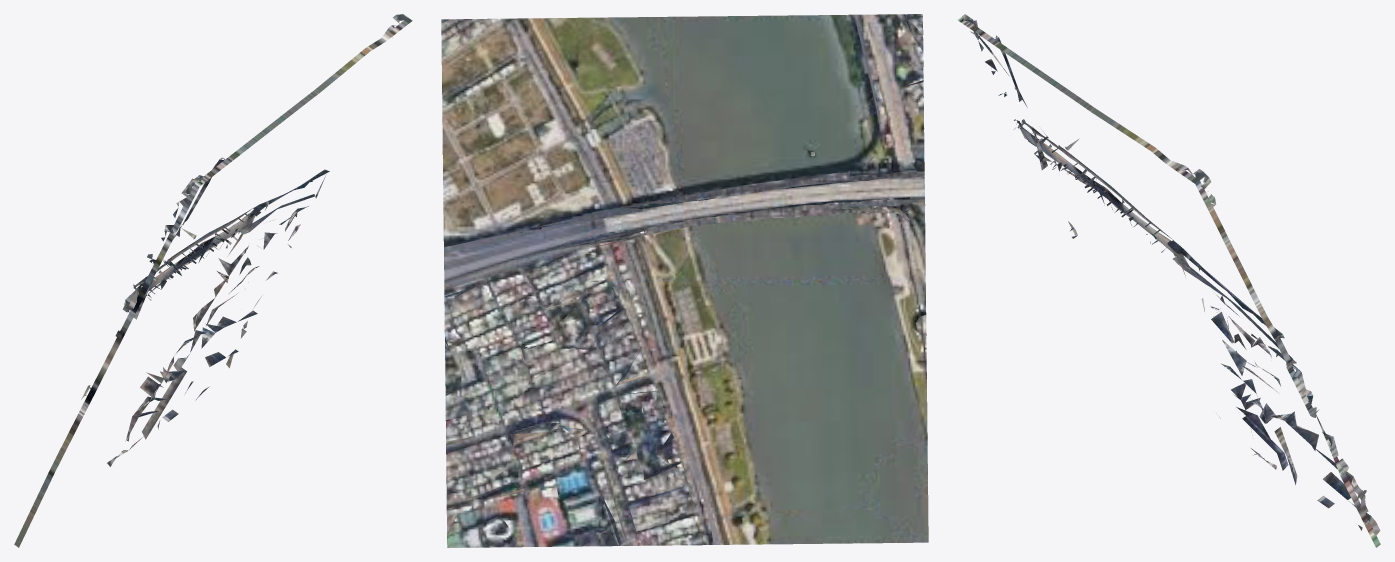
3 renders of one model, left to right at view 1: azimuth 30°, elevation 25°; view 2: azimuth 150°, elevation 25°; view 3: azimuth 270°, elevation 25°, orthographic. The views are drawn at different scales.
Bounding box in the file's own units: 1220 × 1122 × 1031.
1 material, 1 textured.
